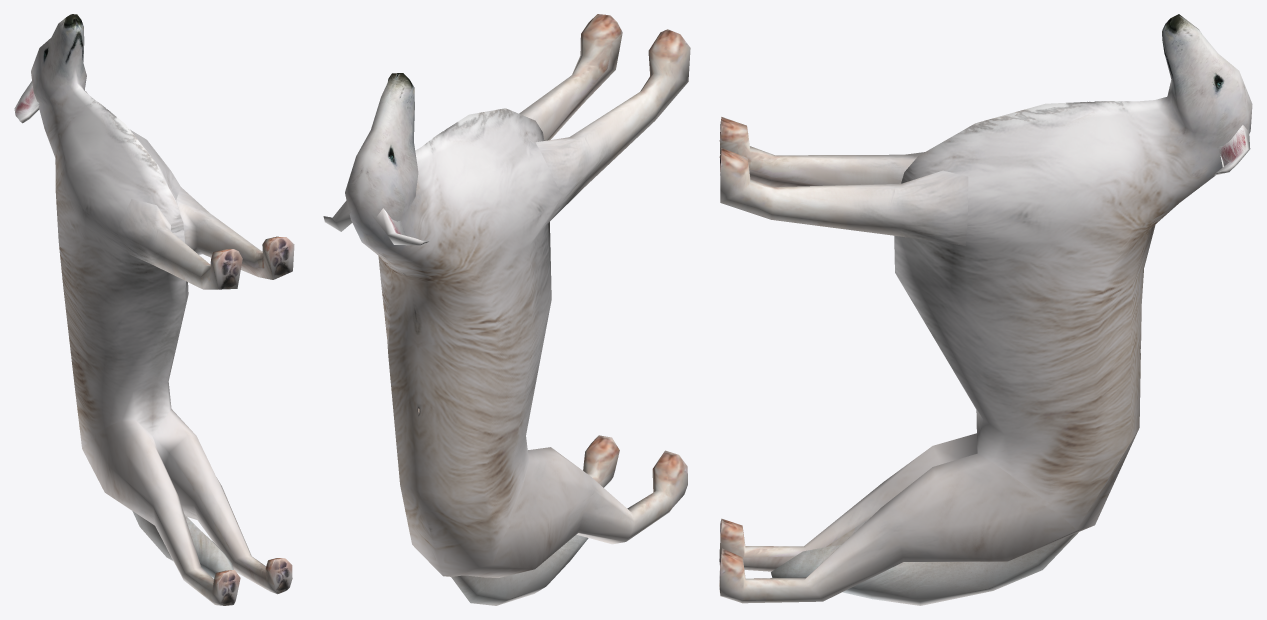
File: SM_Borzoi.fbx
The picture shows the model from 3 angles, left to right: view 1: azimuth 30°, elevation 25°; view 2: azimuth 150°, elevation 25°; view 3: azimuth 270°, elevation 25°; orthographic projection. The views are drawn at different scales.
Parts seen in each view (by area): view 1: SM_Borzoi; view 2: SM_Borzoi; view 3: SM_Borzoi.
Boxes of the visible parts, box(x1,y1,x2,y2) form: SM_Borzoi: box(14, 14, 294, 605); SM_Borzoi: box(323, 14, 690, 605); SM_Borzoi: box(719, 14, 1252, 605).
Size of the model in its own units: 82.72 by 324 by 396.
Materials: 1 (1 with a texture image).
